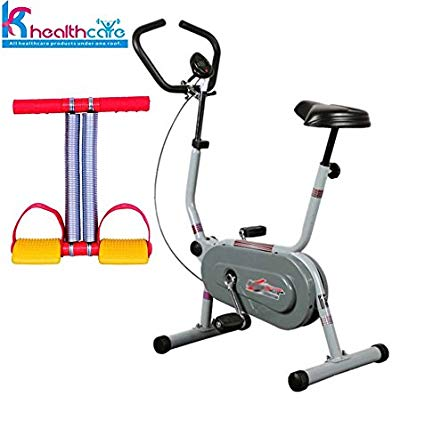gym_bike: (119, 20, 391, 392)
